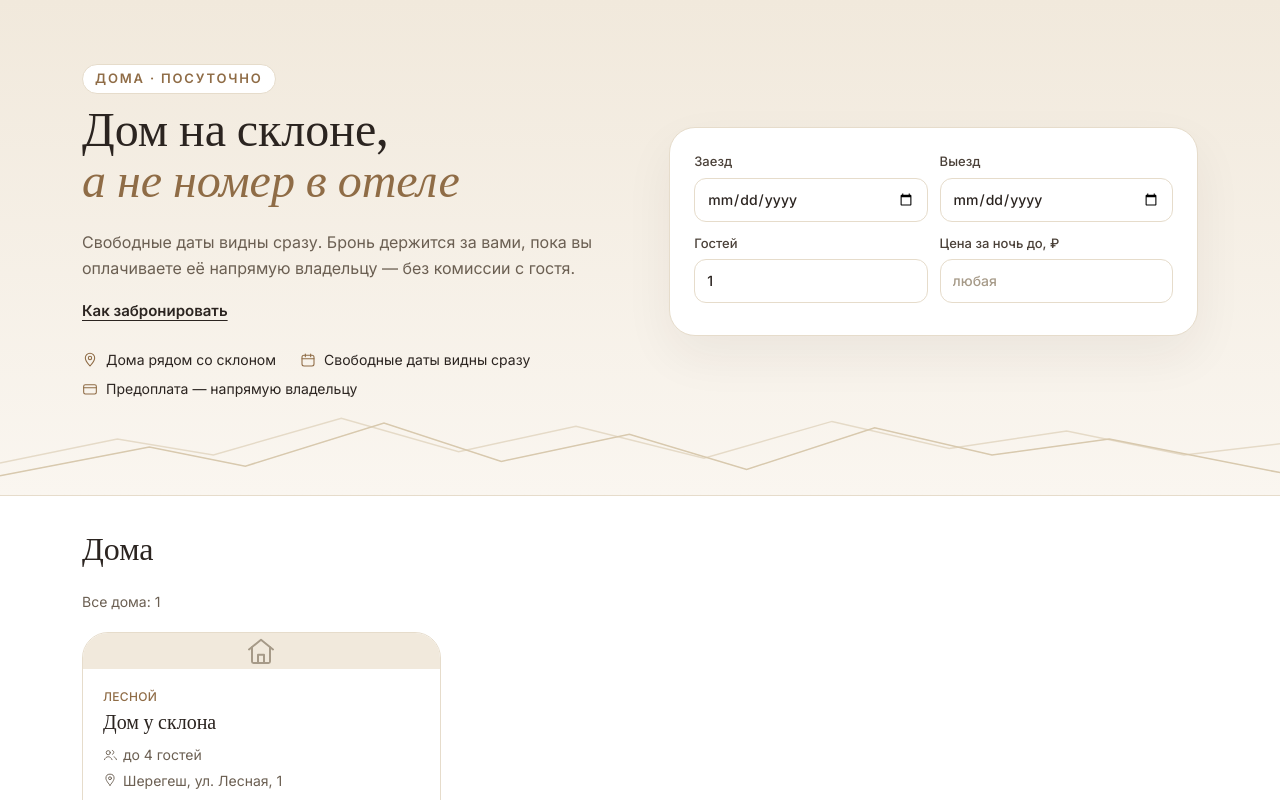
Scenario: CatalogPage on the template (T41-04) › e) date rules and hints
Expected: the text "Все дома: 1" is shown, [82,593,160,610]
Type "2027-03-01" into the date field labelled "Заезд". click: (811, 200)
box: [694,178,928,222]
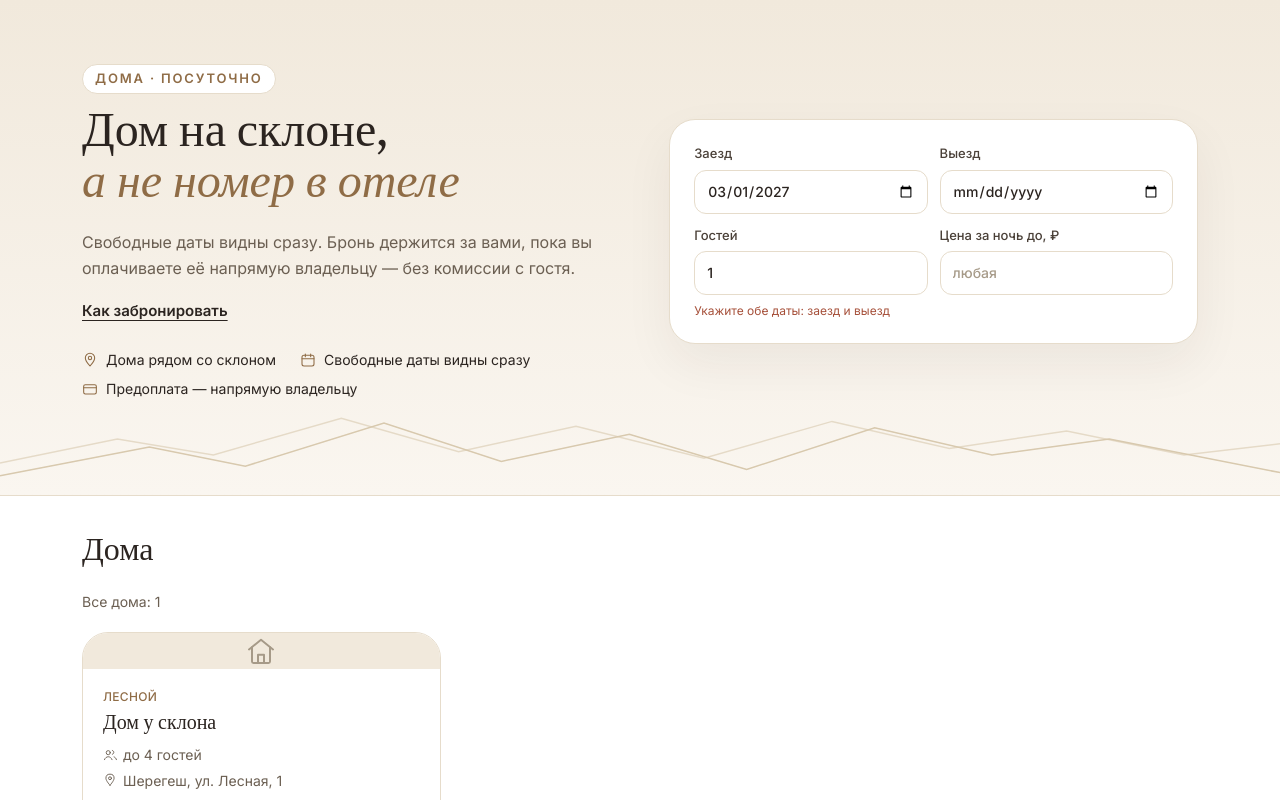
Expected: the message reads "Укажите обе даты: заезд и выезд", [694,303,890,318]
Type "2027-02-20" into the date field labelled "Выезд". click: (1056, 192)
box: [940,170,1173,214]
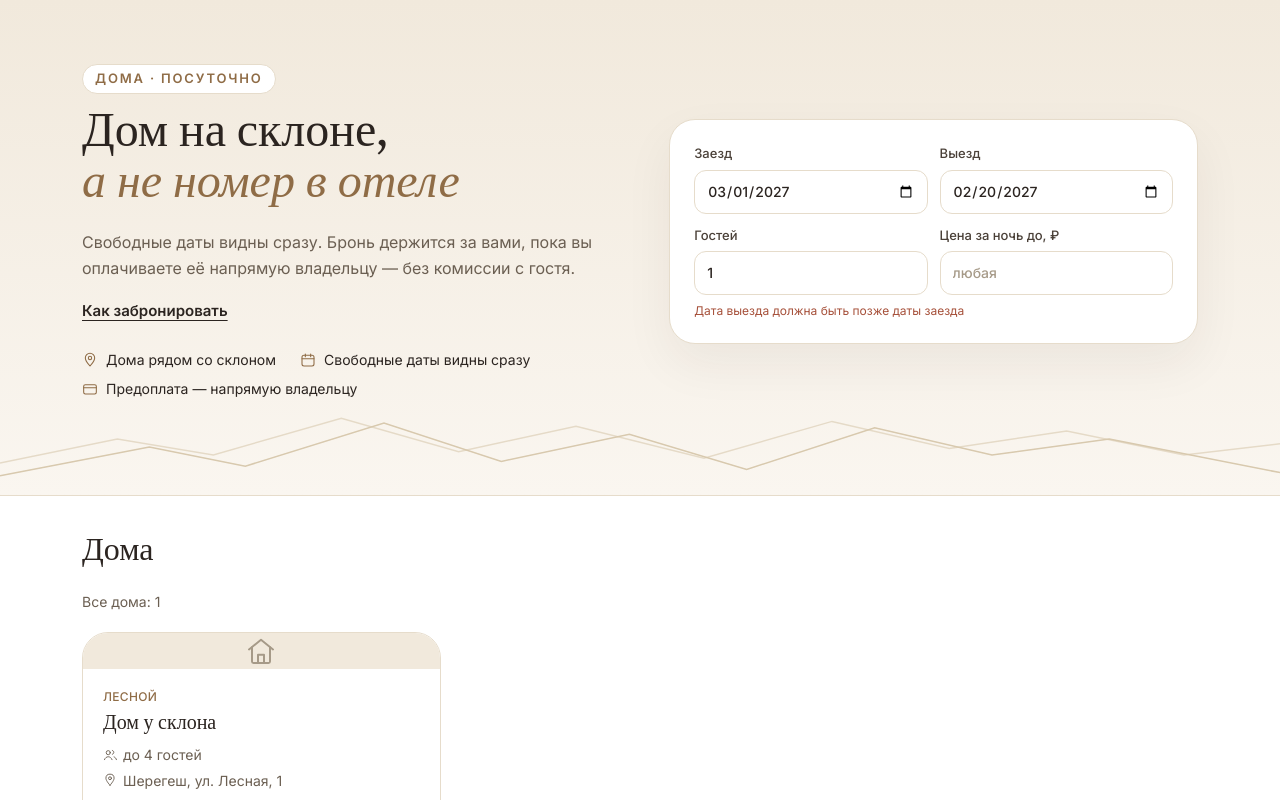
Expected: the message reads "Дата выезда должна быть позже даты заезда", [694,303,964,318]
Type "2027-03-04" into the date field labelled "Выезд". click: (1056, 192)
box: [940,170,1173,214]
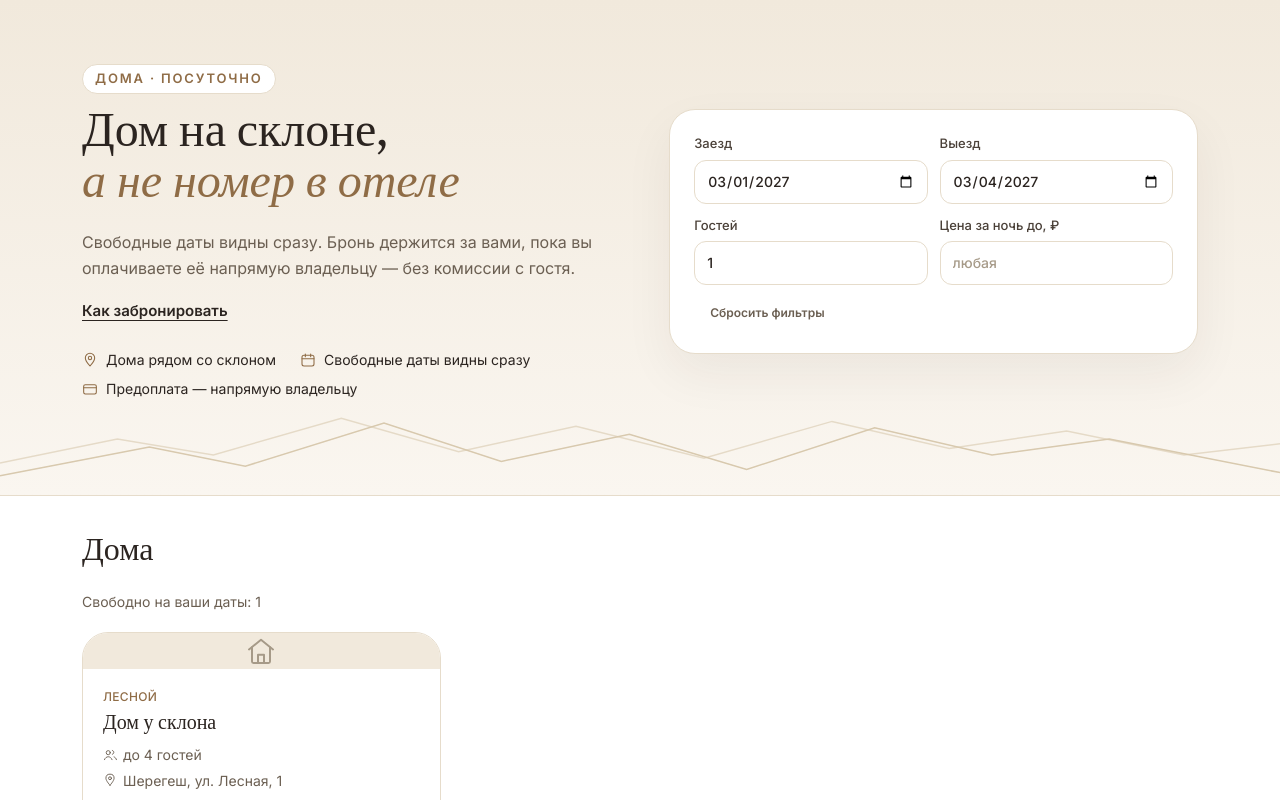
Type "2027-03-10" into the date field labelled "Заезд". click: (811, 182)
box: [694,160,928,204]
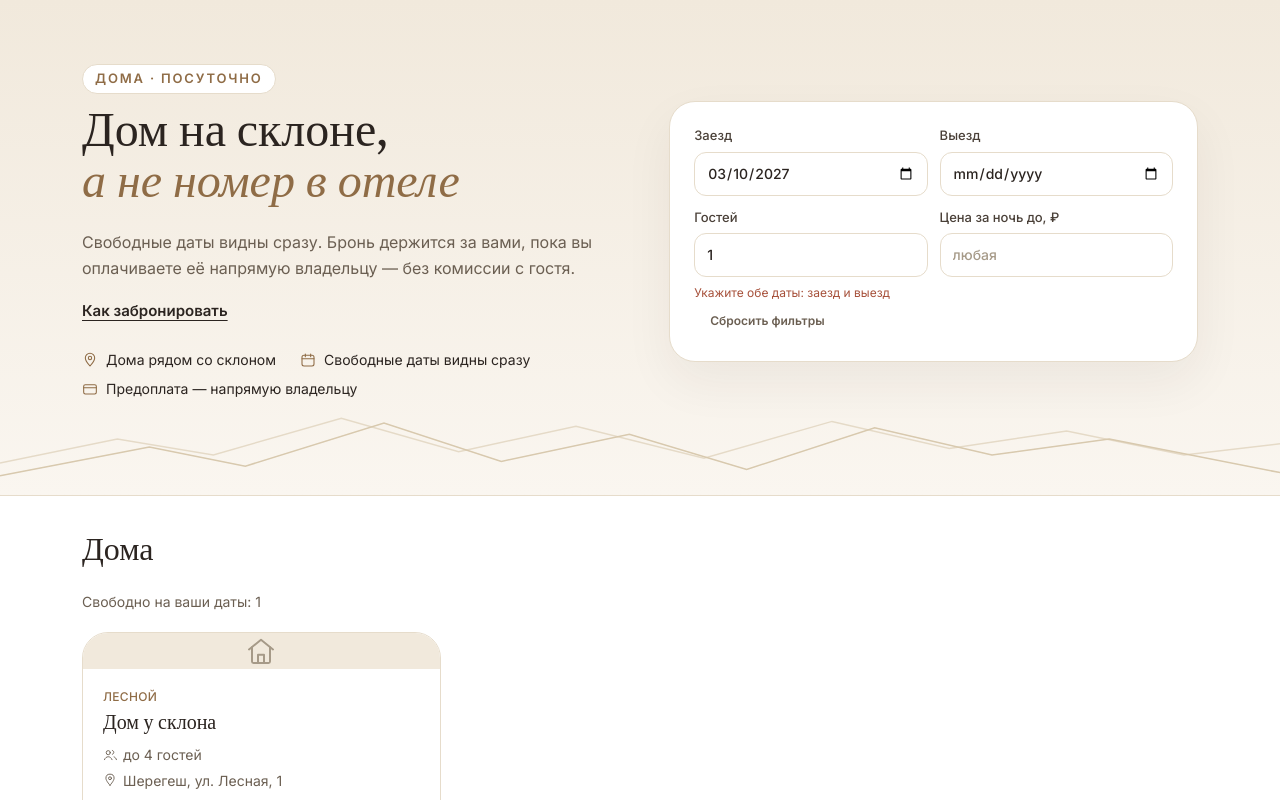
Expected: the date field labelled "Выезд" is empty, [940,152,1173,196]
Expected: the message shows "Укажите обе даты", [694,285,890,300]
